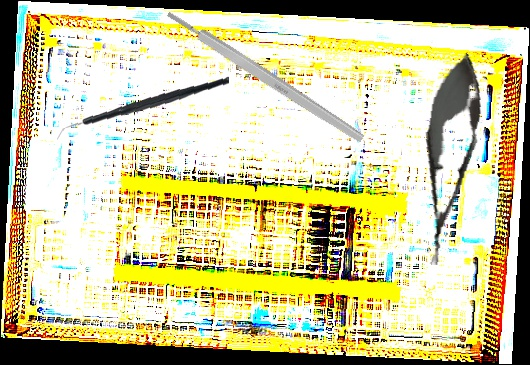Chopper: (56, 64, 230, 154)
Micro Scissor: (407, 49, 491, 269)
Scalpel Handle: (164, 7, 367, 145)
